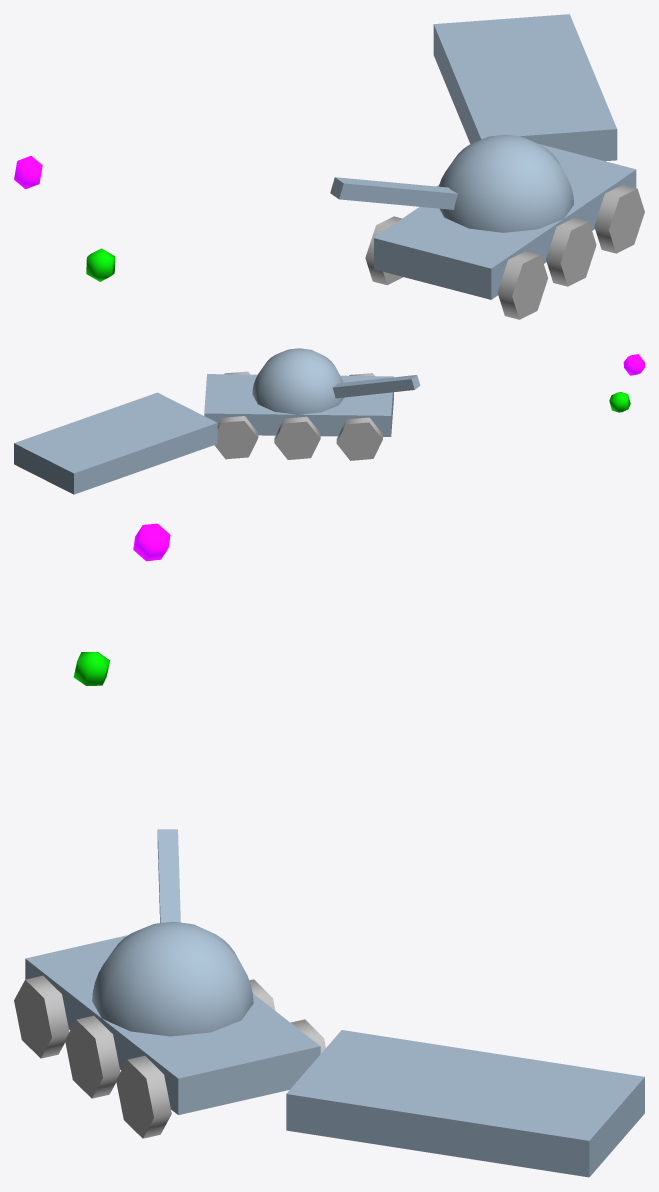
File: tank_scene.gltf
The picture shows the model from 3 angles, top to bottom: view 1: azimuth 30°, elevation 25°; view 2: azimuth 150°, elevation 25°; view 3: azimuth 270°, elevation 25°; orthographic projection. The views are drawn at different scales.
Size of what is drawn, in the model's own units: 24.87 by 7.35 by 15.63.
